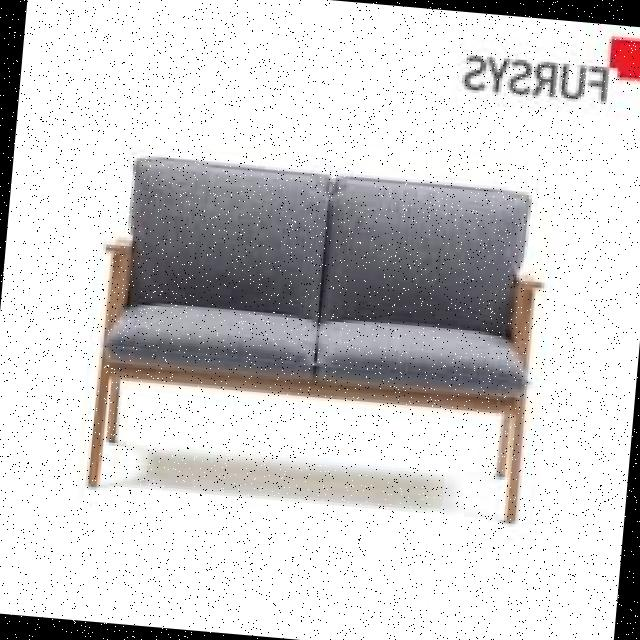Sofa: (23, 110, 585, 561)
